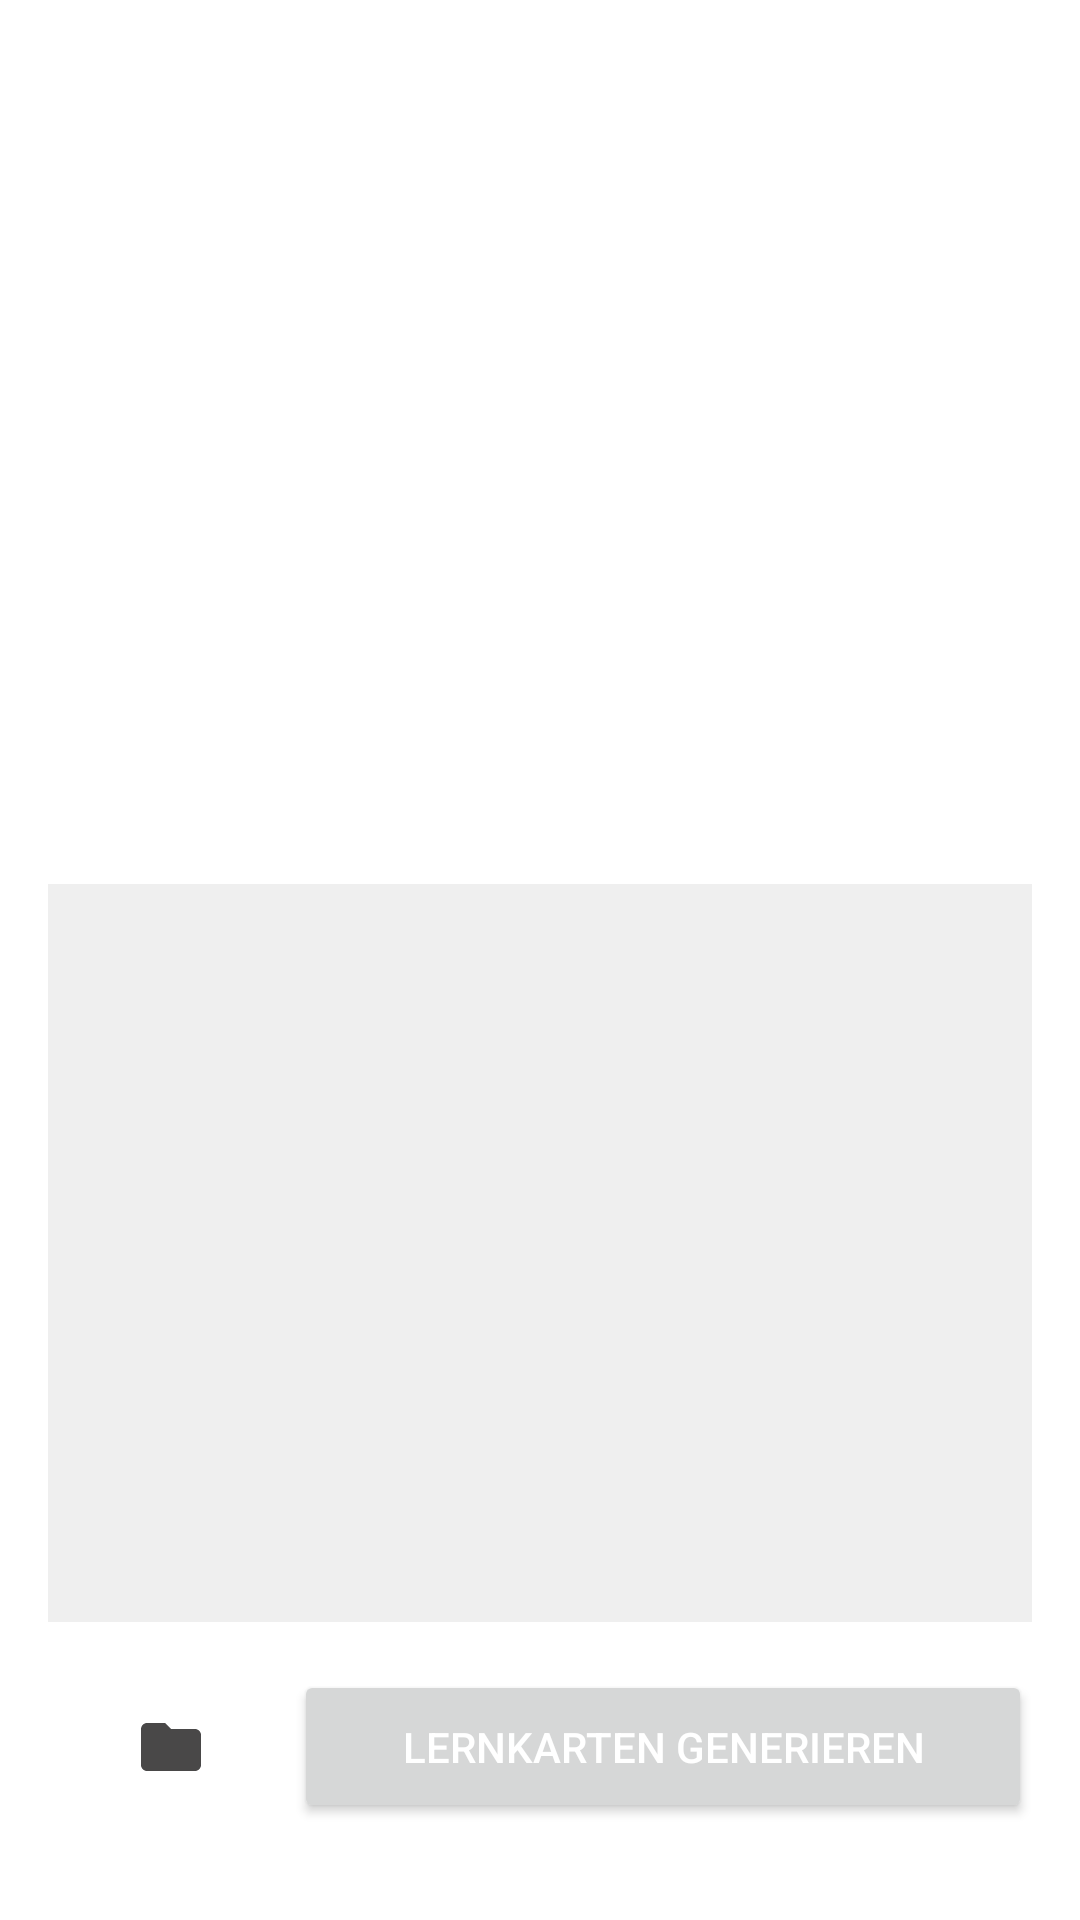

Icons on this 1080x1920 Android screen, each with its box as bbox=(x1, y1, x2, y2):
folder: bbox=(141, 1723, 201, 1771)
